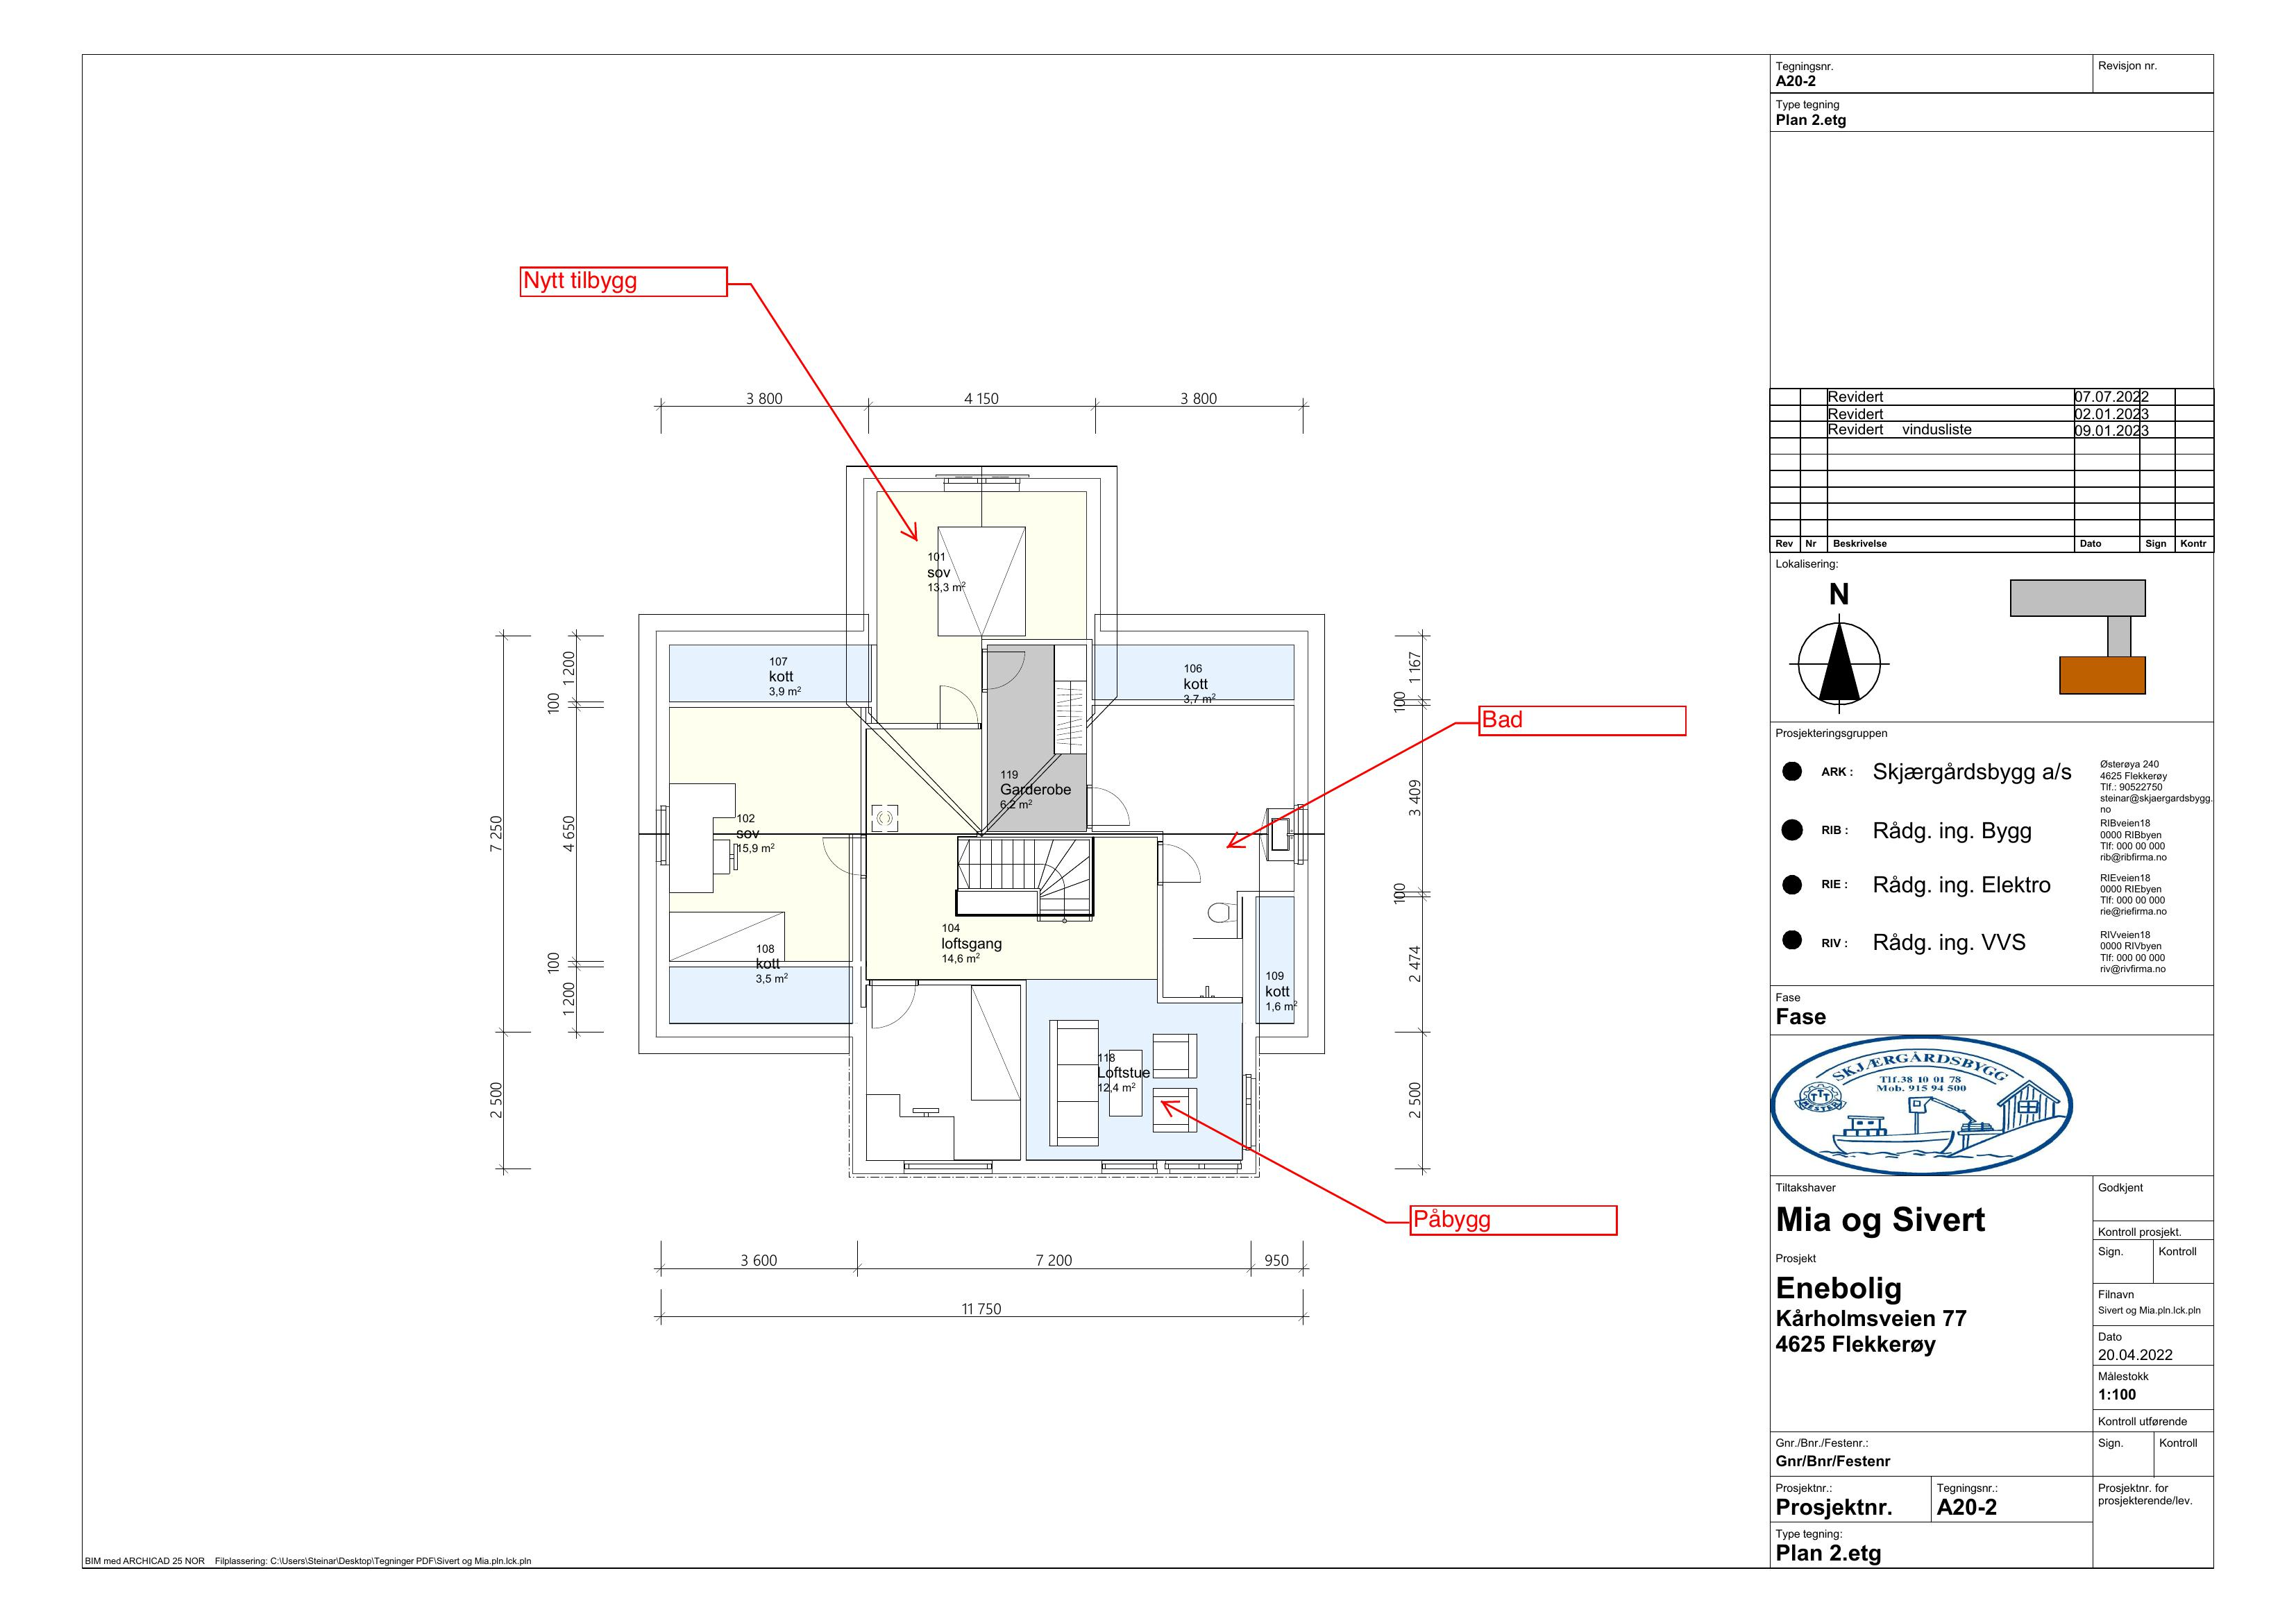plantegning: (629, 460, 1344, 1186)
